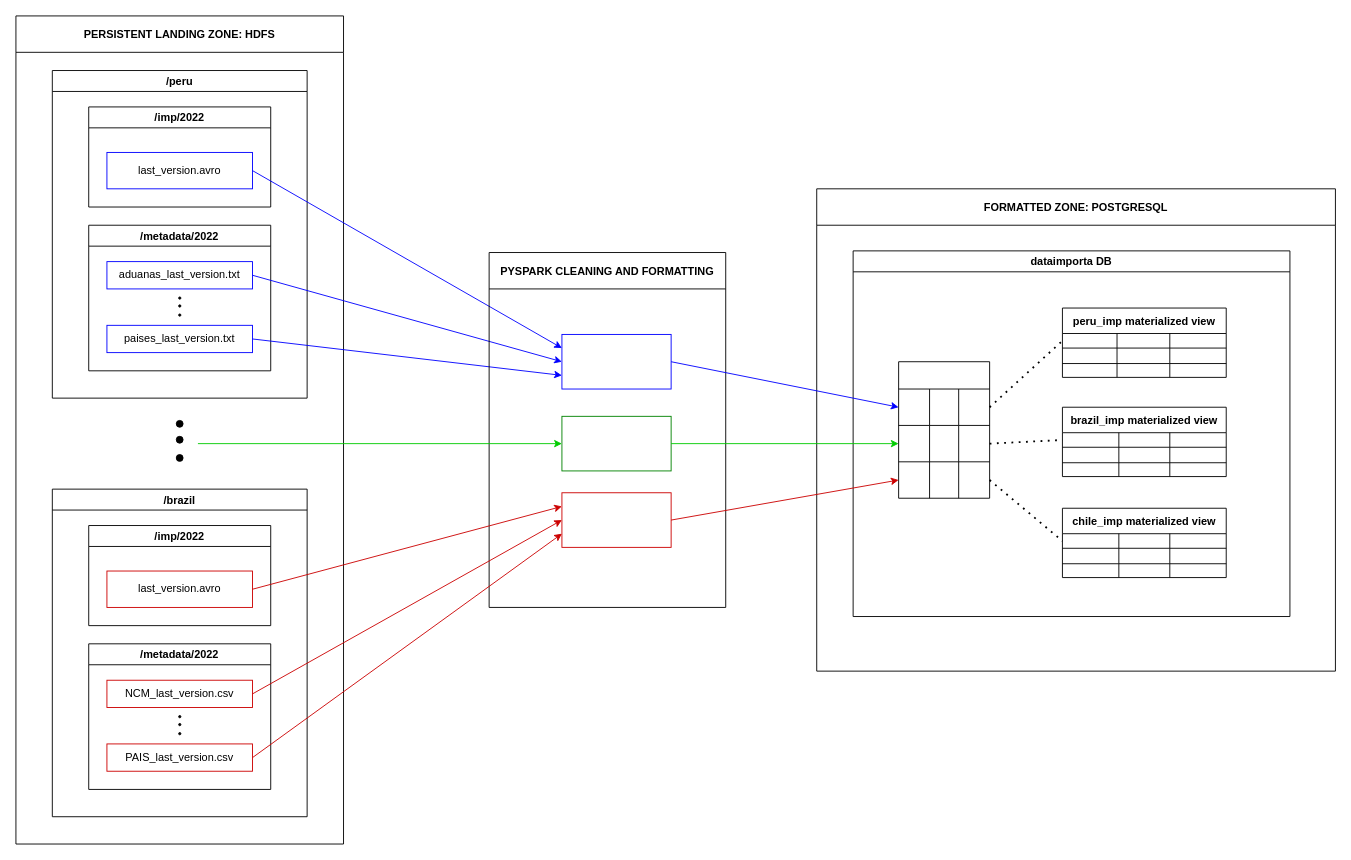
The diagram is 1351 pixels wide and 860 high, and some of its shapes have lost their labels. Each missing label, with the centre of its shape:
all_countries: the point at 944,429
BRAZIL RDD: the point at 616,519
CHILE RDD: the point at 616,443
PERU RDD: the point at 616,361
